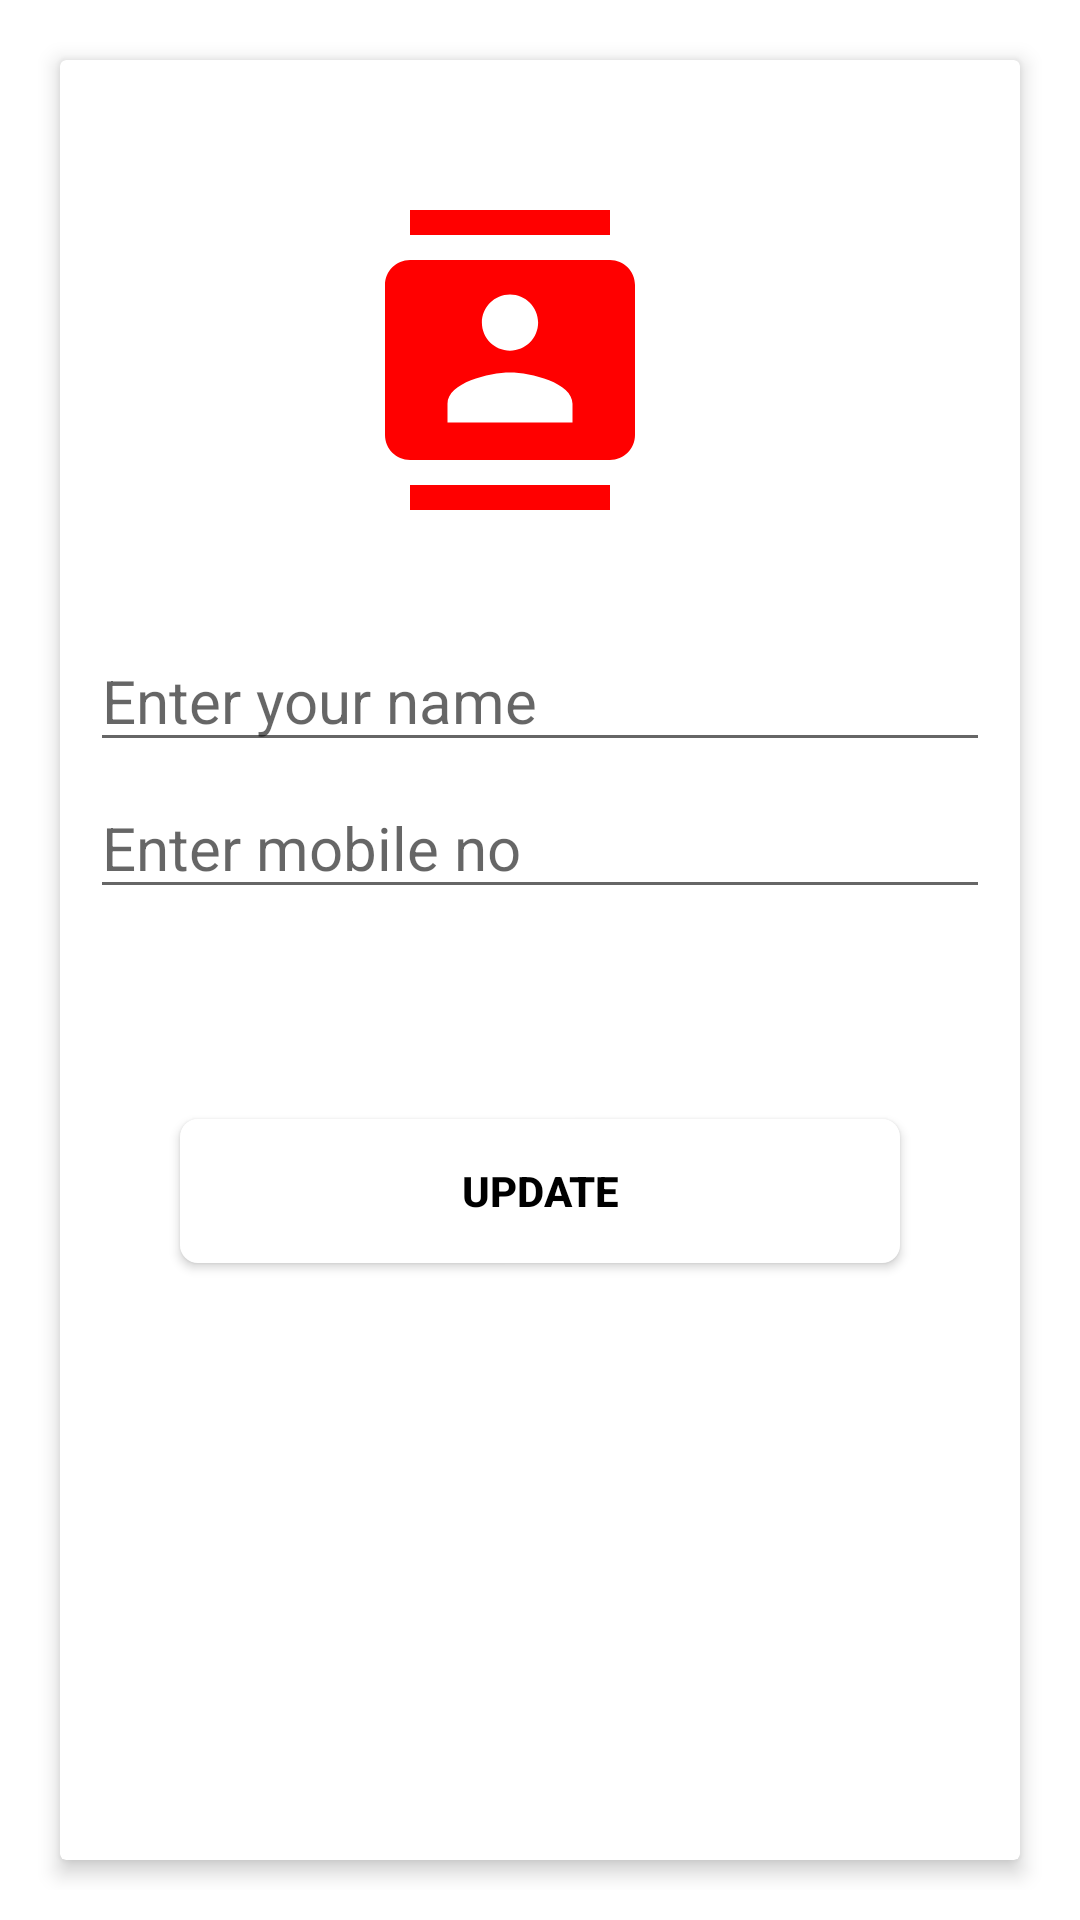

Screen size 1080×1920. Icon name, then its box in pixels as (x1, y1, x2, y2):
contacts: (385, 210, 635, 510)
